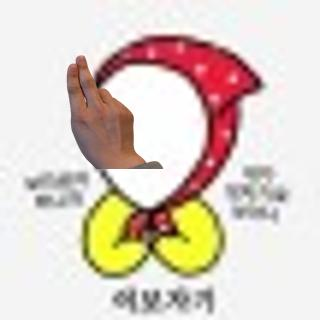DHAVE: (62, 50, 142, 166)
